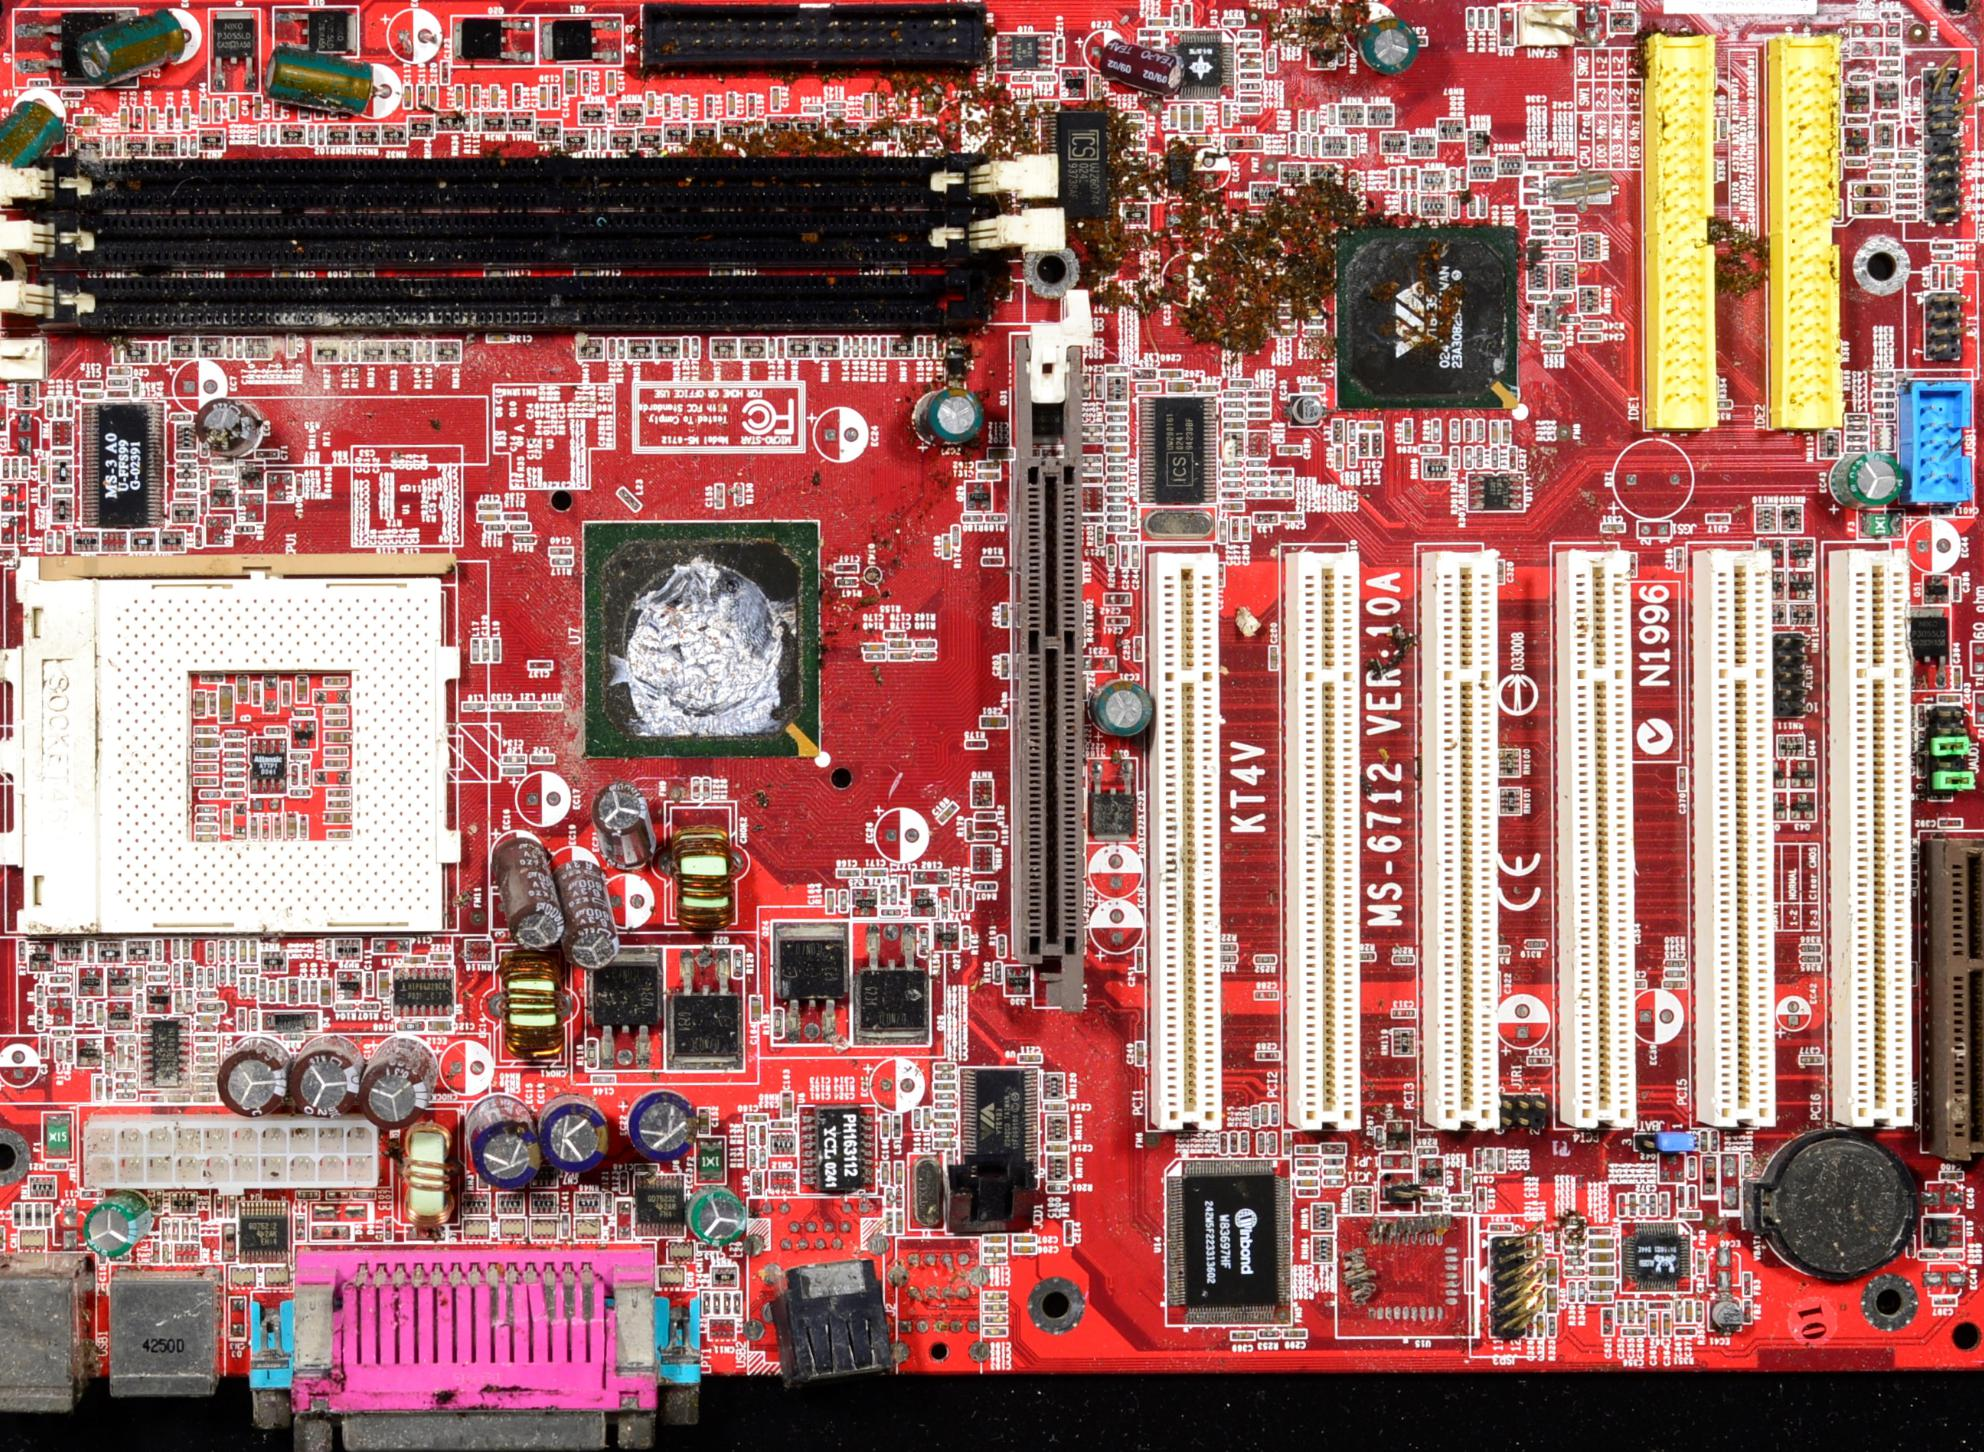Capacitor Jumper: (1872, 422, 1896, 450), (912, 868, 949, 885), (72, 112, 106, 129), (605, 68, 619, 100), (984, 445, 1017, 459), (1587, 1278, 1617, 1292), (1599, 1309, 1613, 1340), (1089, 71, 1103, 100), (1587, 1247, 1616, 1261), (564, 68, 578, 95), (778, 1092, 793, 1116), (702, 92, 718, 117), (978, 714, 1009, 727), (1587, 1235, 1613, 1249), (251, 94, 265, 120), (319, 978, 331, 1007), (1054, 34, 1066, 62), (376, 970, 388, 998), (1165, 103, 1178, 128), (1103, 593, 1131, 605), (698, 1107, 710, 1133), (1588, 1263, 1614, 1275), (1588, 1292, 1614, 1304), (1673, 1298, 1685, 1324), (1192, 103, 1205, 129), (478, 499, 504, 511), (1588, 1224, 1611, 1238), (1676, 765, 1687, 795), (980, 1232, 1004, 1244), (427, 83, 439, 108), (416, 83, 428, 108), (550, 85, 562, 109), (454, 85, 467, 109), (1659, 1312, 1671, 1337), (1222, 105, 1234, 129), (146, 108, 159, 132), (1933, 816, 1961, 827), (428, 1021, 456, 1032), (981, 1292, 1009, 1303), (226, 95, 237, 123), (836, 867, 860, 879), (1614, 1300, 1627, 1323), (1553, 160, 1576, 172), (1248, 408, 1271, 420), (1223, 499, 1246, 511), (941, 534, 953, 557), (887, 648, 910, 661), (1252, 989, 1279, 999), (1009, 1243, 1035, 1253), (402, 82, 413, 108), (981, 1326, 1007, 1337), (1704, 513, 1730, 524), (1103, 616, 1129, 627), (878, 1113, 889, 1138), (1483, 1149, 1494, 1173), (511, 83, 522, 108), (1645, 1301, 1670, 1312), (1648, 1310, 1659, 1335), (1406, 165, 1417, 189), (1893, 211, 1918, 222), (1929, 262, 1939, 286), (1169, 379, 1191, 391), (1137, 382, 1158, 394), (1277, 443, 1302, 454), (1183, 2, 1194, 26), (1334, 445, 1345, 470), (1220, 487, 1245, 497), (1131, 636, 1141, 661), (1268, 644, 1279, 668), (1936, 693, 1961, 704), (308, 976, 317, 1004), (1795, 1053, 1822, 1062), (180, 108, 194, 126), (975, 460, 1003, 470), (1476, 1187, 1486, 1210), (983, 1255, 1006, 1266), (724, 92, 735, 115), (679, 95, 690, 119), (1271, 487, 1294, 497), (1148, 17, 1171, 28), (479, 639, 490, 662), (981, 1304, 1007, 1313), (980, 1315, 1006, 1324), (861, 91, 870, 117), (166, 105, 176, 131), (1299, 383, 1325, 393), (975, 470, 1001, 479), (715, 482, 724, 508), (1218, 519, 1228, 545), (105, 365, 136, 373), (1462, 1169, 1473, 1190), (770, 88, 781, 109), (1530, 208, 1551, 219), (1118, 545, 1129, 567), (592, 1075, 616, 1084), (1497, 1146, 1506, 1170), (1620, 1327, 1645, 1337), (1180, 105, 1189, 129), (1929, 239, 1953, 248), (1579, 333, 1604, 342), (1872, 390, 1896, 399), (1357, 420, 1382, 430), (1490, 419, 1499, 443), (254, 448, 279, 457), (1600, 524, 1625, 533), (998, 602, 1007, 627), (1137, 26, 1161, 35), (488, 701, 513, 710), (1238, 80, 1258, 91), (248, 939, 257, 962), (404, 955, 427, 964), (364, 970, 373, 993), (1664, 981, 1687, 990), (1389, 1007, 1413, 1016), (1527, 1056, 1550, 1066), (1010, 72, 1034, 82), (1044, 1102, 1067, 1112), (933, 1110, 957, 1119), (1043, 1143, 1066, 1152), (881, 1159, 889, 1187), (559, 1215, 568, 1238), (470, 82, 479, 105), (1636, 1300, 1645, 1323), (645, 91, 655, 114), (662, 92, 672, 115), (200, 100, 209, 123), (119, 106, 128, 129), (1895, 189, 1918, 199), (1944, 265, 1953, 288), (285, 334, 294, 357), (1248, 397, 1271, 406), (1403, 417, 1413, 440), (1500, 420, 1510, 443), (1269, 477, 1292, 487), (548, 545, 571, 554), (1674, 548, 1684, 571), (299, 978, 307, 1004), (1474, 1147, 1482, 1173), (632, 1164, 658, 1172), (1001, 653, 1009, 679), (923, 1107, 932, 1129), (933, 1139, 955, 1149), (488, 83, 498, 105), (132, 106, 142, 128), (1229, 377, 1251, 386), (863, 868, 887, 876), (1018, 1055, 1043, 1062), (214, 99, 222, 123), (1160, 370, 1185, 377), (833, 564, 858, 571), (1952, 576, 1959, 601), (889, 641, 913, 648), (1034, 72, 1054, 82), (933, 1119, 953, 1129), (932, 1129, 952, 1138), (1063, 1221, 1072, 1241), (1625, 1300, 1634, 1320), (1528, 160, 1548, 169), (1896, 200, 1916, 209), (82, 379, 102, 388), (108, 388, 128, 397), (1508, 448, 1517, 468), (1918, 754, 1925, 778), (900, 873, 907, 896), (239, 939, 246, 962), (428, 953, 451, 961), (744, 1115, 767, 1122), (981, 1244, 1004, 1252), (1231, 517, 1238, 540), (1497, 560, 1505, 584), (1918, 702, 1925, 725), (744, 92, 753, 111), (1225, 420, 1243, 430), (1918, 730, 1925, 751), (932, 1081, 953, 1089), (1248, 390, 1269, 397), (1106, 403, 1128, 411), (1271, 468, 1292, 476), (1280, 513, 1302, 520), (1242, 517, 1249, 539), (1131, 547, 1138, 568), (581, 71, 588, 91), (538, 86, 545, 106), (1685, 1300, 1693, 1320), (1953, 667, 1961, 687), (827, 888, 833, 913), (1104, 445, 1129, 451), (1400, 166, 1406, 189), (1015, 1235, 1035, 1241), (1896, 162, 1916, 168), (1198, 385, 1218, 391), (83, 391, 102, 397)
Connector: (1824, 550, 1915, 1127), (1012, 336, 1088, 998), (1691, 551, 1775, 1122), (1554, 550, 1636, 1132), (1422, 548, 1500, 1124), (1286, 553, 1359, 1126), (1151, 553, 1222, 1130), (1644, 32, 1716, 416), (1775, 31, 1839, 422), (1936, 835, 1982, 1155)
IC: (1168, 1164, 1289, 1326), (80, 402, 165, 528), (1135, 396, 1215, 504), (795, 1104, 876, 1193), (958, 1067, 1037, 1156), (1619, 1219, 1691, 1293), (1166, 29, 1232, 99), (632, 1173, 685, 1238), (391, 967, 456, 1018), (237, 1203, 290, 1261), (995, 32, 1052, 71), (1921, 1215, 1967, 1247)
Resistor Jumper: (1522, 936, 1548, 948), (1577, 319, 1604, 331), (60, 88, 83, 100), (1895, 171, 1918, 183), (972, 810, 998, 821), (513, 533, 539, 544), (26, 77, 51, 88), (1416, 1146, 1440, 1156), (1674, 1326, 1696, 1338), (924, 336, 935, 360), (952, 524, 963, 548), (550, 554, 575, 565), (333, 999, 356, 1010), (357, 1002, 380, 1013), (1288, 132, 1299, 156), (1348, 134, 1359, 157), (396, 1021, 422, 1030), (1466, 6, 1476, 32), (964, 888, 975, 910), (1325, 105, 1336, 126), (1297, 108, 1308, 129), (588, 126, 599, 148), (1386, 168, 1397, 189), (1525, 289, 1547, 300), (689, 337, 699, 359), (1873, 408, 1895, 419), (1346, 419, 1357, 440), (1171, 3, 1181, 25), (1246, 477, 1268, 488), (1246, 487, 1268, 497), (510, 522, 531, 533), (974, 831, 998, 841), (226, 939, 236, 964), (206, 941, 216, 965), (930, 1070, 955, 1079), (1918, 1249, 1942, 1258), (1297, 135, 1309, 154), (1416, 445, 1440, 454), (1348, 443, 1357, 468), (756, 1150, 767, 1170), (1944, 1250, 1964, 1261), (826, 111, 846, 122), (1306, 111, 1317, 131), (257, 125, 268, 145), (1898, 149, 1918, 160), (1531, 226, 1551, 237), (1873, 377, 1893, 388), (1108, 462, 1128, 473), (37, 485, 48, 505), (917, 648, 937, 659), (1237, 92, 1260, 102), (1238, 103, 1262, 112), (179, 135, 188, 159), (1537, 340, 1560, 350), (1474, 417, 1483, 440), (233, 524, 256, 533), (863, 651, 886, 661), (539, 701, 562, 710), (1799, 942, 1821, 952), (152, 941, 163, 959), (758, 1126, 767, 1147), (604, 1193, 613, 1215), (1448, 1203, 1470, 1212), (1895, 180, 1916, 189), (1556, 214, 1577, 223), (915, 336, 924, 357), (1106, 423, 1128, 433), (1476, 447, 1485, 468), (1222, 457, 1243, 467), (1246, 470, 1268, 479), (961, 513, 983, 522), (1106, 544, 1115, 565), (981, 556, 1003, 565), (1389, 955, 1414, 962), (1220, 953, 1235, 965), (1696, 1300, 1704, 1324), (189, 134, 197, 159), (1453, 445, 1460, 470), (878, 884, 887, 904), (323, 939, 333, 959), (1556, 226, 1576, 236), (1932, 251, 1952, 260), (869, 336, 878, 356), (679, 336, 689, 356), (131, 376, 140, 396), (1873, 400, 1893, 410), (1463, 447, 1473, 467), (1108, 454, 1128, 463), (1248, 457, 1268, 467), (1222, 476, 1242, 485), (733, 482, 742, 502), (1485, 9, 1494, 29), (1357, 953, 1374, 964), (953, 888, 961, 912), (838, 890, 846, 913), (992, 959, 1000, 982), (1449, 1196, 1473, 1204), (1400, 191, 1408, 214), (1539, 333, 1562, 340), (424, 340, 431, 363), (106, 377, 129, 385), (55, 393, 63, 416), (1222, 410, 1245, 417), (1433, 417, 1440, 440), (1493, 445, 1500, 468), (1554, 249, 1573, 259), (1553, 291, 1571, 300), (414, 342, 424, 360), (1108, 483, 1126, 493), (838, 576, 856, 585), (975, 882, 997, 890), (961, 925, 969, 947), (997, 935, 1004, 956), (217, 964, 225, 985), (932, 1062, 953, 1070), (1238, 71, 1260, 79), (747, 1147, 755, 1169), (308, 123, 316, 145), (599, 129, 607, 151), (1311, 134, 1319, 156), (1553, 237, 1574, 245), (616, 337, 624, 359), (339, 339, 347, 360), (350, 340, 357, 362), (65, 396, 72, 417), (1106, 414, 1128, 422), (1451, 419, 1459, 440), (1463, 420, 1471, 442), (1131, 507, 1138, 528), (984, 514, 1006, 522), (487, 524, 508, 531), (1222, 17, 1243, 25), (1095, 527, 1103, 548), (1237, 29, 1258, 37), (932, 1092, 958, 1098), (217, 942, 225, 962), (1665, 959, 1685, 967), (228, 965, 236, 985), (205, 967, 213, 987), (250, 1012, 257, 1032), (749, 1126, 756, 1146), (801, 103, 821, 111), (462, 111, 470, 131), (1531, 219, 1551, 226), (852, 337, 860, 357), (776, 337, 784, 357), (1225, 391, 1245, 399), (46, 397, 54, 417), (1106, 434, 1126, 442), (1220, 468, 1240, 476), (1118, 533, 1138, 540), (884, 630, 904, 637), (932, 1101, 957, 1107), (171, 941, 179, 959), (1801, 953, 1819, 961), (913, 1109, 921, 1127), (316, 126, 323, 145), (1108, 474, 1126, 482), (1108, 494, 1126, 502), (45, 531, 52, 550), (239, 978, 245, 999), (1047, 1184, 1069, 1190), (824, 102, 846, 108), (1476, 8, 1482, 29), (57, 530, 63, 551), (1242, 40, 1258, 48), (1240, 49, 1257, 57), (889, 884, 896, 901), (619, 1173, 627, 1190), (861, 337, 869, 354), (1875, 370, 1892, 377), (966, 819, 972, 839), (1266, 51, 1272, 71), (1255, 956, 1275, 962), (1665, 970, 1685, 976), (473, 111, 479, 131), (1413, 194, 1419, 214), (843, 337, 849, 357), (607, 337, 613, 357), (1225, 402, 1245, 408), (1108, 514, 1128, 520), (915, 639, 935, 645), (1220, 942, 1235, 950), (194, 969, 202, 984), (250, 978, 256, 996), (769, 336, 773, 360), (881, 336, 886, 359), (1108, 524, 1124, 530), (182, 942, 188, 956), (1108, 505, 1126, 510)
Transistor: (770, 921, 849, 1046), (852, 921, 930, 1042), (587, 948, 665, 1070), (665, 947, 742, 1067), (208, 9, 260, 94), (538, 14, 622, 66), (450, 15, 538, 65), (273, 8, 357, 57), (1924, 574, 1950, 604)
